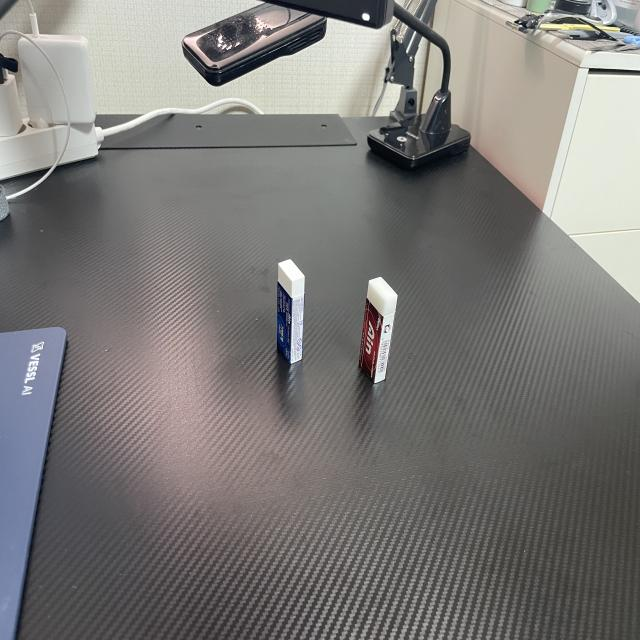blue: (267, 246, 314, 372)
red: (356, 264, 401, 398)
